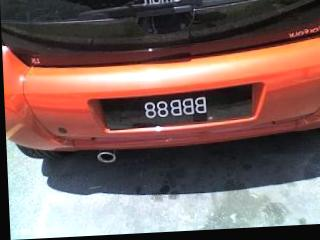License_Plate: (84, 69, 272, 147)
